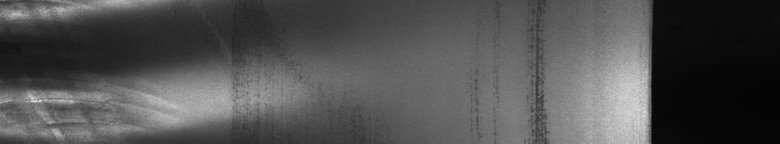ke: (4, 4, 245, 136)
